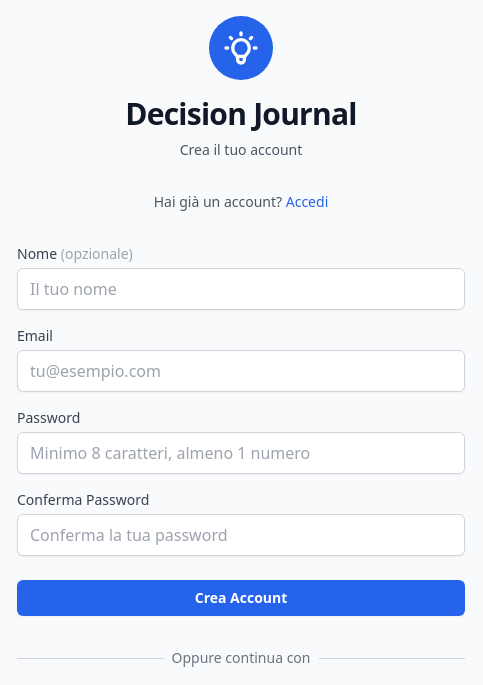
Test: Signup Page › Error State › shows error message for already registered email
Expected: the button "Crea Account" is shown, 17,580 -> 465,616
Type "existing@example.com" into the field labelled "Email".
click(241, 371); type("existing@example.com")  # box 17,350 -> 465,392
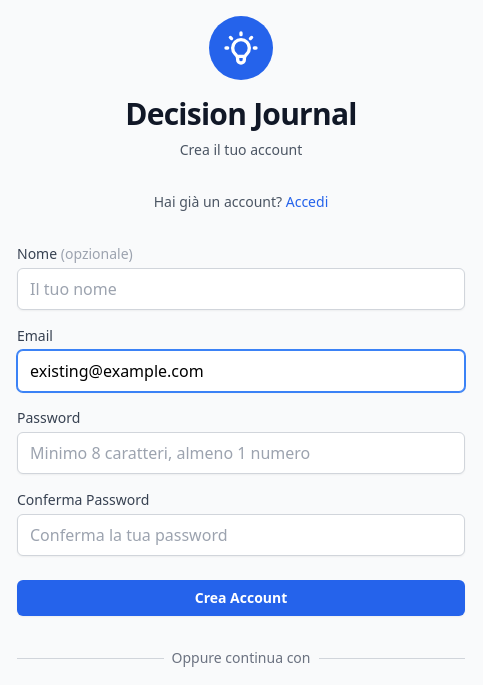
Type "password123" into the password field labelled "Password".
click(241, 453); type("password123")  # box 17,432 -> 465,474
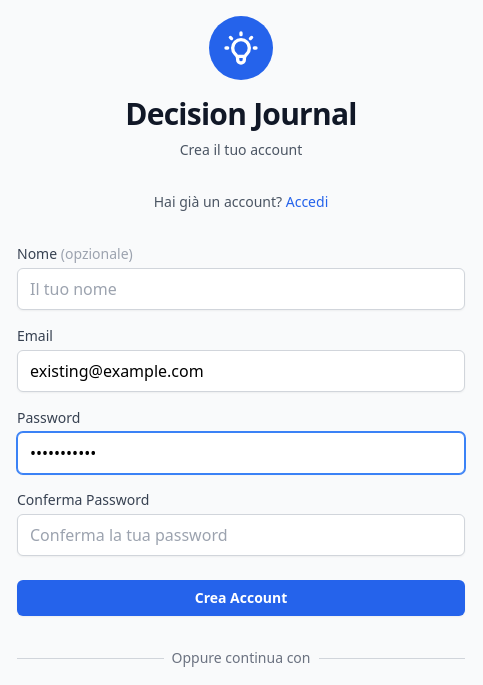
Type "password123" into the password field labelled "Conferma Password".
click(241, 535); type("password123")  # box 17,514 -> 465,556
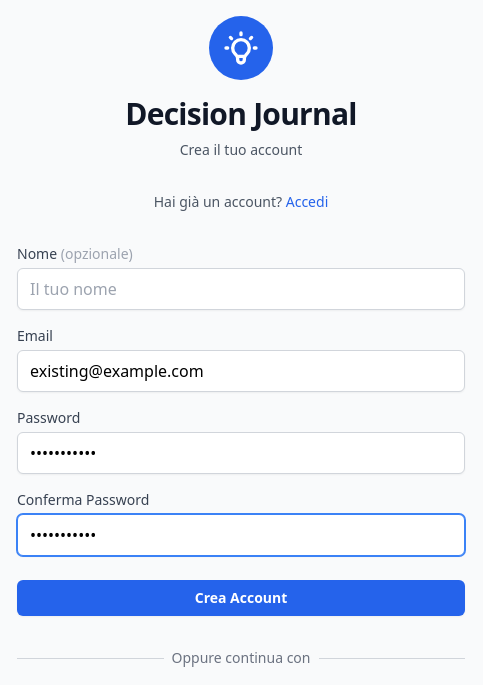
Click the button "Crea Account".
click(241, 598)  # box 17,580 -> 465,616
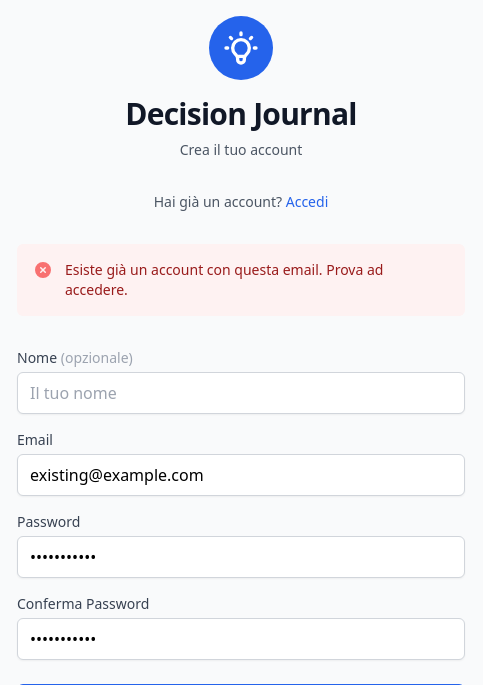
Now the message "Esiste già un account con questa email. Prova ad accedere." is shown, box 17,244 -> 465,316
Now the text "Esiste già un account con questa email. Prova ad accedere." is shown, box 65,260 -> 383,299
